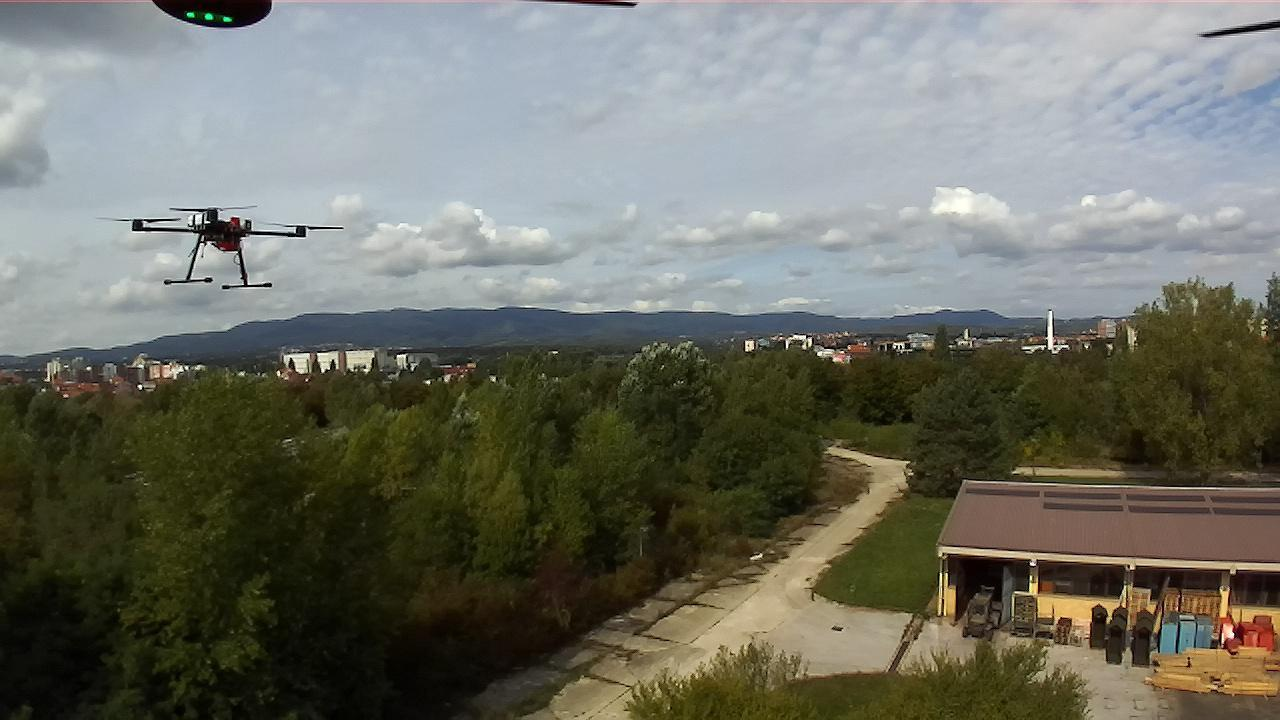drone: (98, 200, 348, 304)
